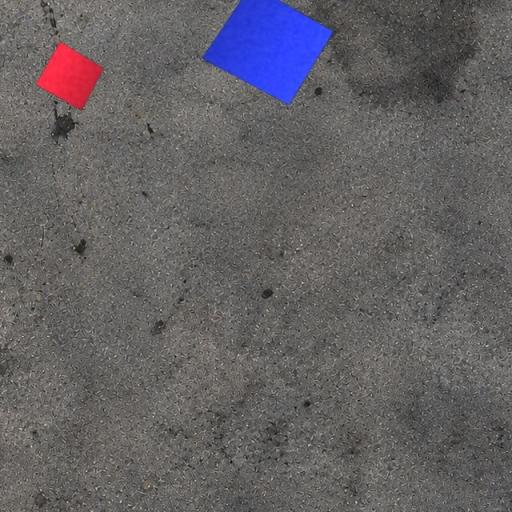BLUE_SQUARE: (202, 0, 334, 106)
RED_SQUARE: (34, 41, 105, 111)
